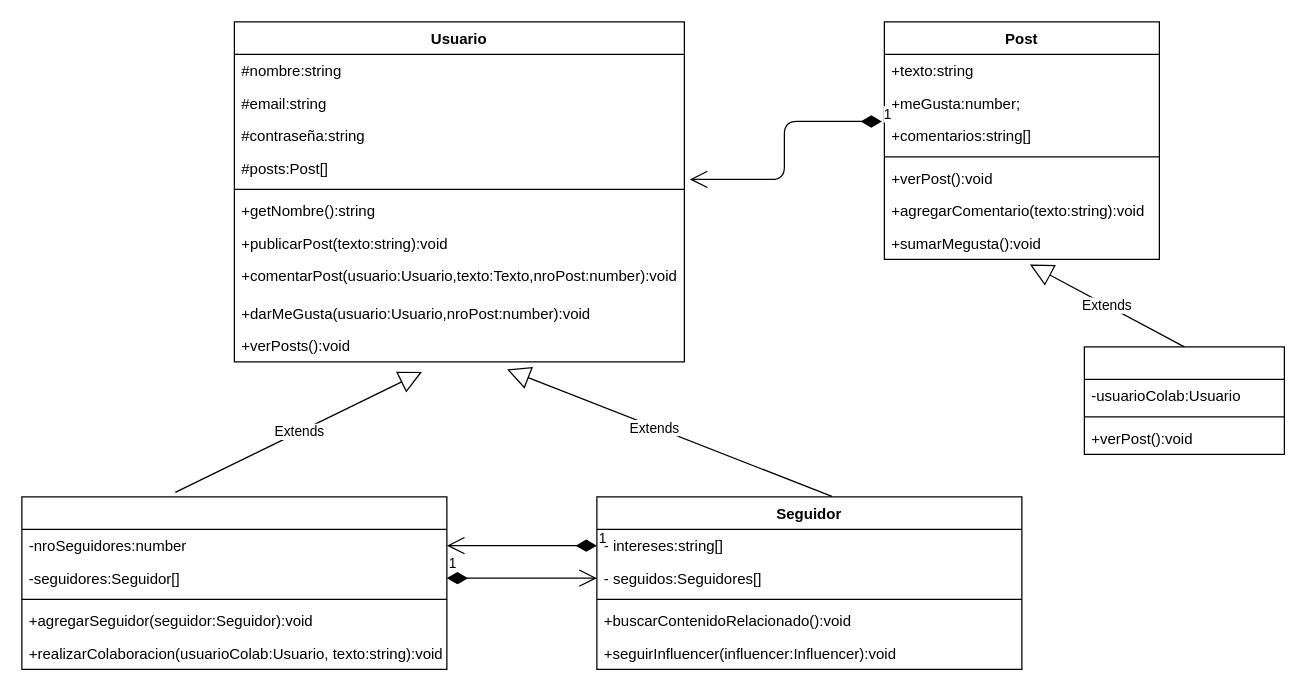
Some shapes in this 1306 by 695 pixel diagram are drawn without their labels. Each missing label, with the box of its shape:
Colaboracion: (1083, 346, 1284, 454)
Influencer: (21, 496, 447, 669)
